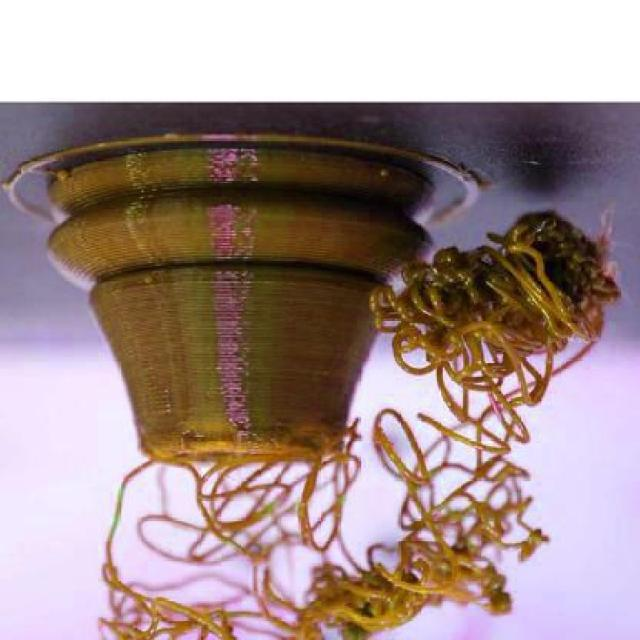Spaghetti: (92, 410, 558, 638), (356, 199, 638, 407)
